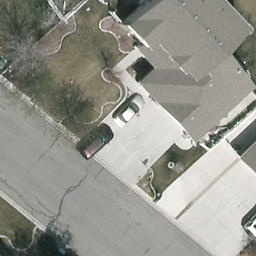car: (78, 120, 115, 159), (109, 91, 149, 127)
